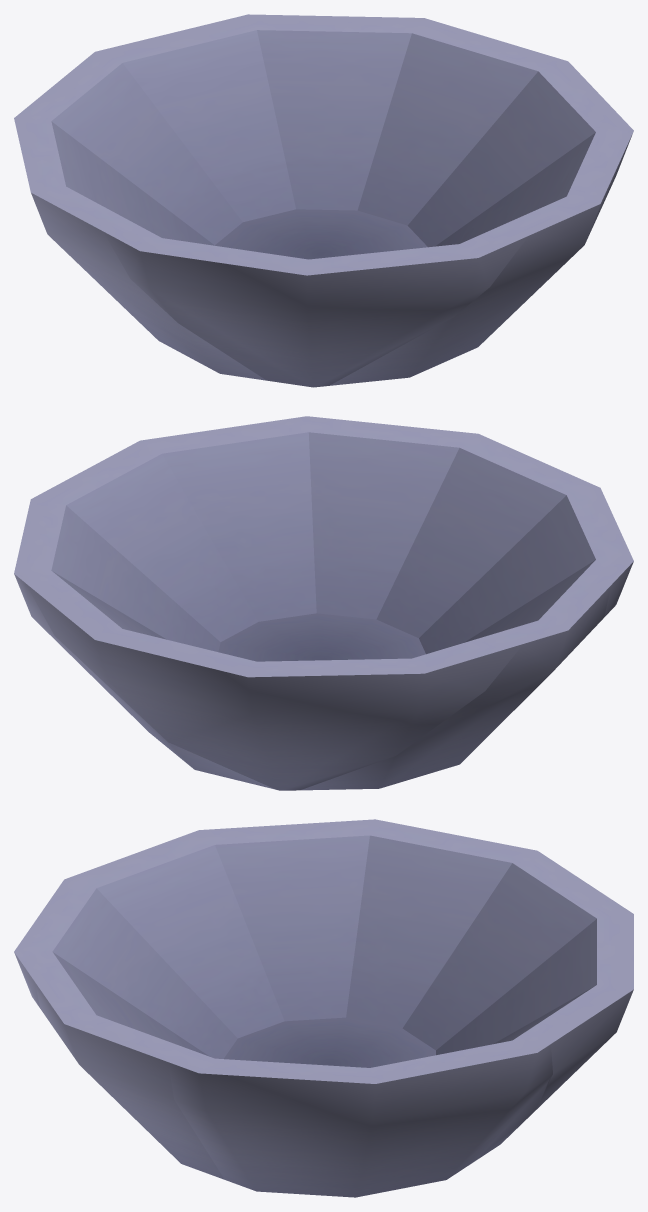
The model's file is M_bowl_fragments.FBX.
The picture shows the model from 3 angles, top to bottom: view 1: azimuth 30°, elevation 25°; view 2: azimuth 150°, elevation 25°; view 3: azimuth 270°, elevation 25°; orthographic projection.
Parts seen in each view (by area): view 1: Sphere016_Part_2, Sphere016_Part_4, Sphere016_Part_3, Sphere016_Part_5, Sphere016_Part_1, Sphere016_Part_6; view 2: Sphere016_Part_2, Sphere016_Part_3, Sphere016_Part_4, Sphere016_Part_1, Sphere016_Part_6, Sphere016_Part_5; view 3: Sphere016_Part_4, Sphere016_Part_3, Sphere016_Part_2, Sphere016_Part_6, Sphere016_Part_1, Sphere016_Part_5.
Part boxes in pixels (<box>): Sphere016_Part_2: <box>14,14,399,215</box>; Sphere016_Part_4: <box>369,17,633,251</box>; Sphere016_Part_3: <box>103,218,528,387</box>; Sphere016_Part_5: <box>207,50,386,259</box>; Sphere016_Part_1: <box>329,147,626,385</box>; Sphere016_Part_6: <box>25,165,266,380</box>; Sphere016_Part_2: <box>25,580,523,790</box>; Sphere016_Part_3: <box>359,426,633,656</box>; Sphere016_Part_4: <box>14,435,304,749</box>; Sphere016_Part_1: <box>179,416,407,645</box>; Sphere016_Part_6: <box>301,582,611,790</box>; Sphere016_Part_5: <box>77,593,370,789</box>; Sphere016_Part_4: <box>168,1032,552,1197</box>; Sphere016_Part_3: <box>14,826,294,1056</box>; Sphere016_Part_2: <box>415,829,633,1109</box>; Sphere016_Part_6: <box>259,819,435,1047</box>; Sphere016_Part_1: <box>35,981,283,1179</box>; Sphere016_Part_5: <box>282,1017,546,1162</box>.
Size of the model in its own units: 28.81 by 28.51 by 10.33.
